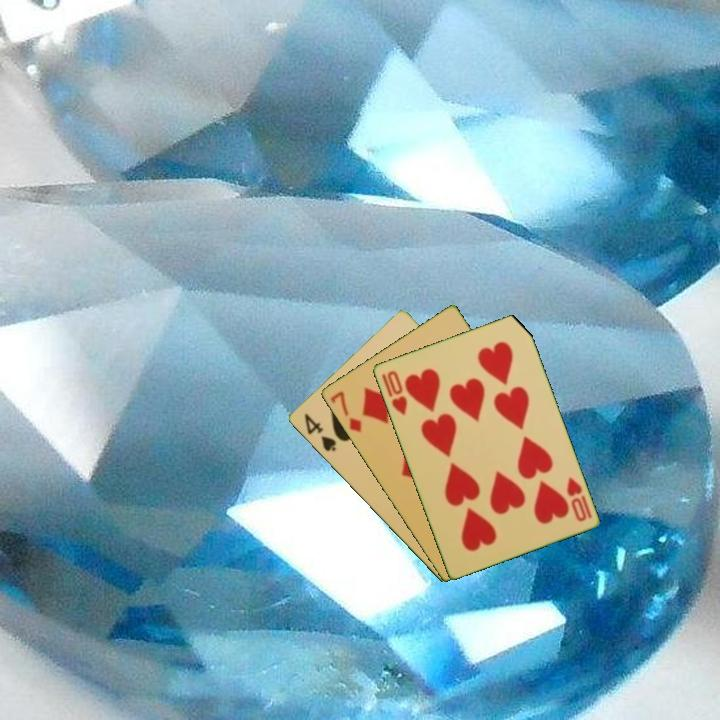10h: (563, 473, 594, 525), (383, 367, 410, 418)
4s: (300, 409, 339, 454)
7d: (326, 387, 364, 435)
